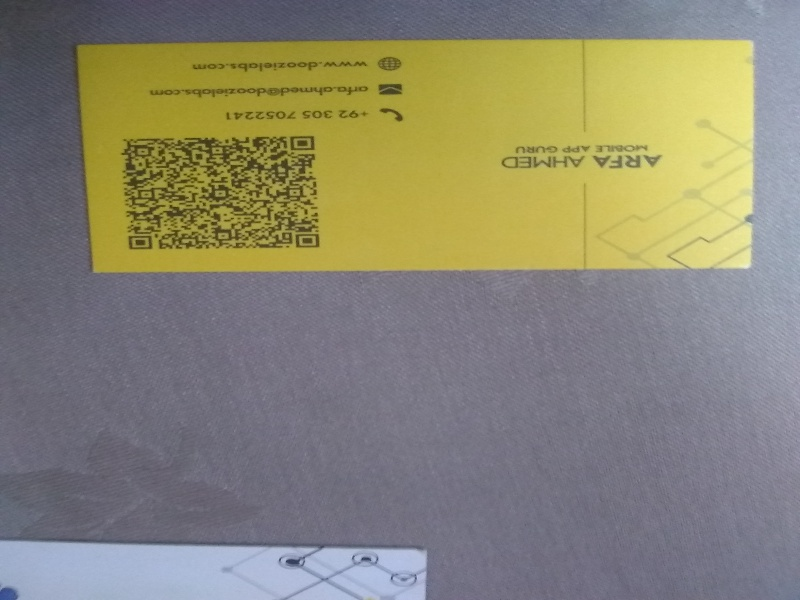front: (70, 41, 756, 274)
